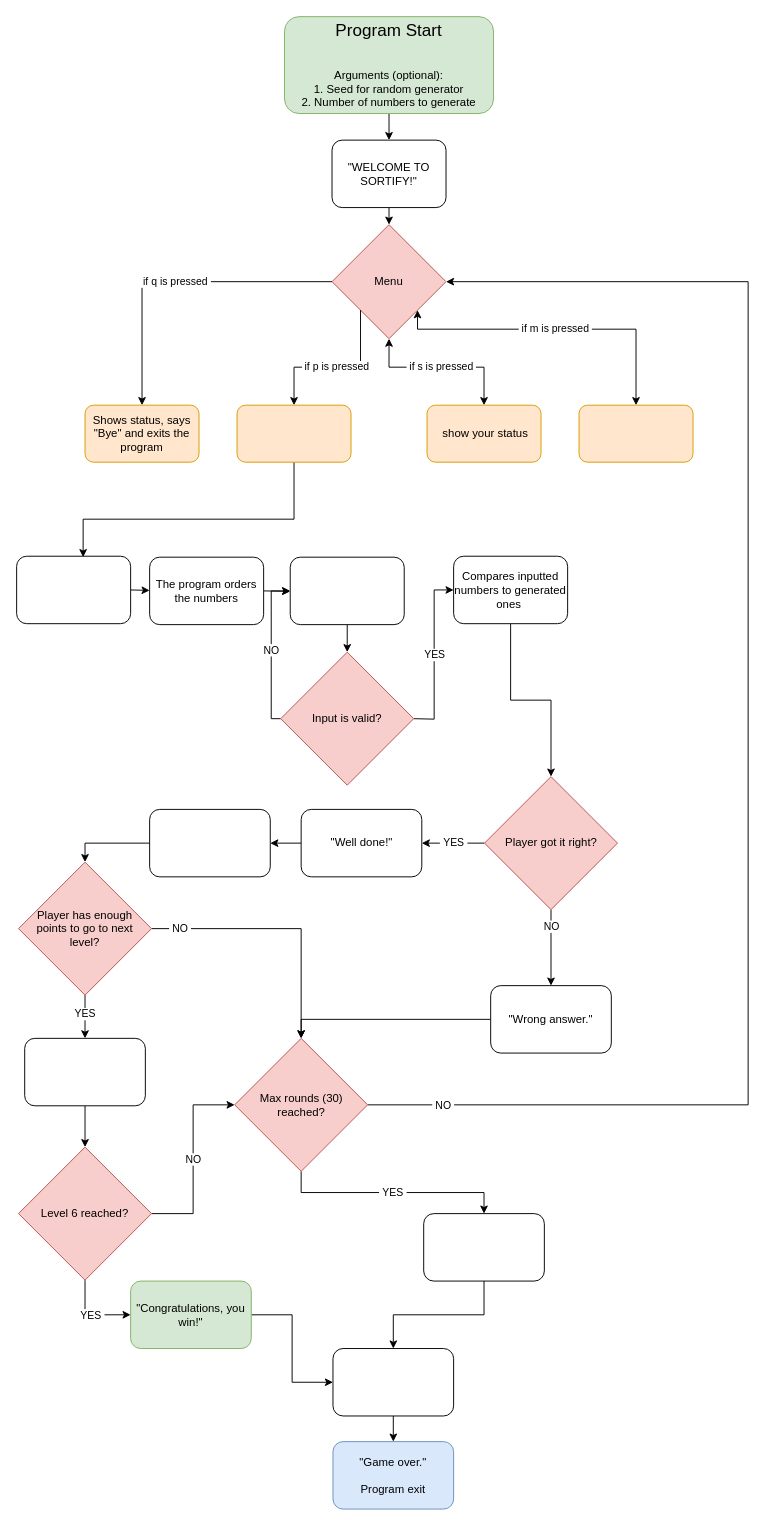
Image size: 772x1526. Some labels were removed from this diagram. Each missing label, with the centre of its shape:
"You have reached the maximum number of moves.": pixel 483 1247
Asks the player to insert the numbers: pixel 346 590
next challenge: pixel 293 433
Numbers are generated and shown on screen: pixel 73 589
Player level up: pixel 84 1071
Player score update: pixel 209 842
print menu: pixel 635 433
Show status: pixel 393 1382
